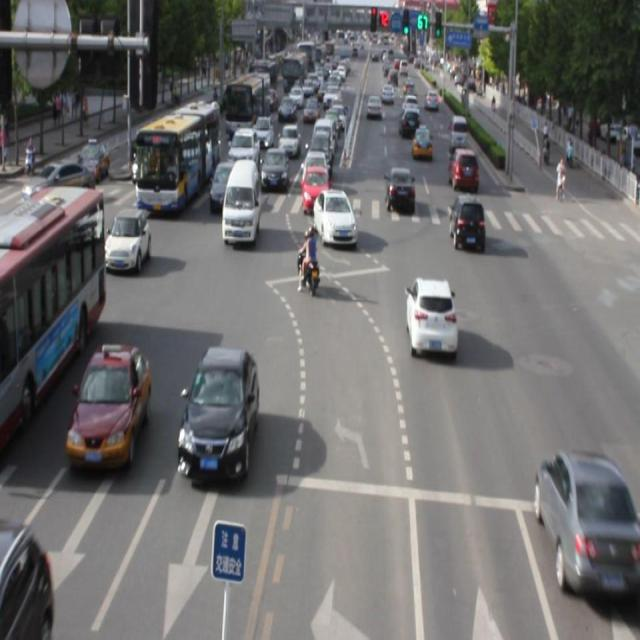car: (535, 448, 640, 594), (177, 340, 257, 477), (66, 341, 149, 466), (0, 521, 52, 640), (405, 273, 456, 353), (104, 207, 149, 269), (312, 183, 356, 244), (449, 193, 483, 248)
truck: (222, 158, 262, 242)
van: (1, 185, 104, 437)
